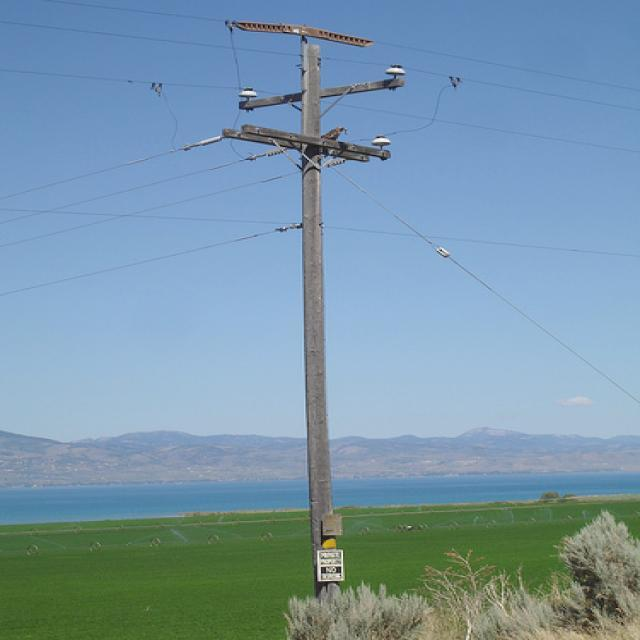crossarm: (239, 67, 404, 109), (224, 128, 369, 162), (244, 125, 393, 157)
pole: (295, 38, 348, 595)
wire: (327, 165, 639, 403), (1, 146, 288, 227), (1, 224, 305, 299), (324, 57, 640, 114), (321, 102, 635, 153), (2, 133, 231, 201), (1, 20, 301, 60), (324, 226, 639, 258), (0, 207, 302, 225)
